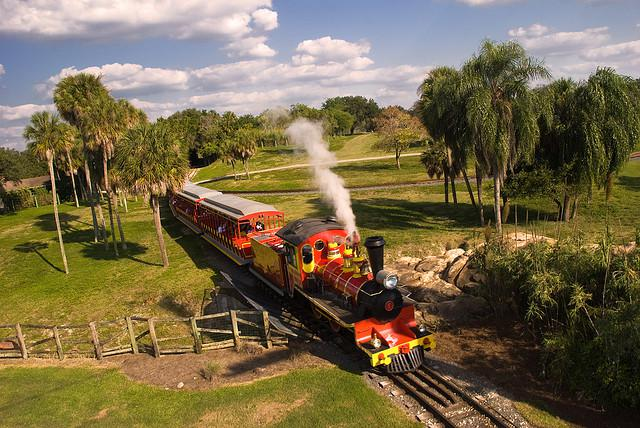Train: (168, 177, 443, 376)
